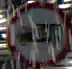Heavy Vehicles: (5, 1, 70, 68)
